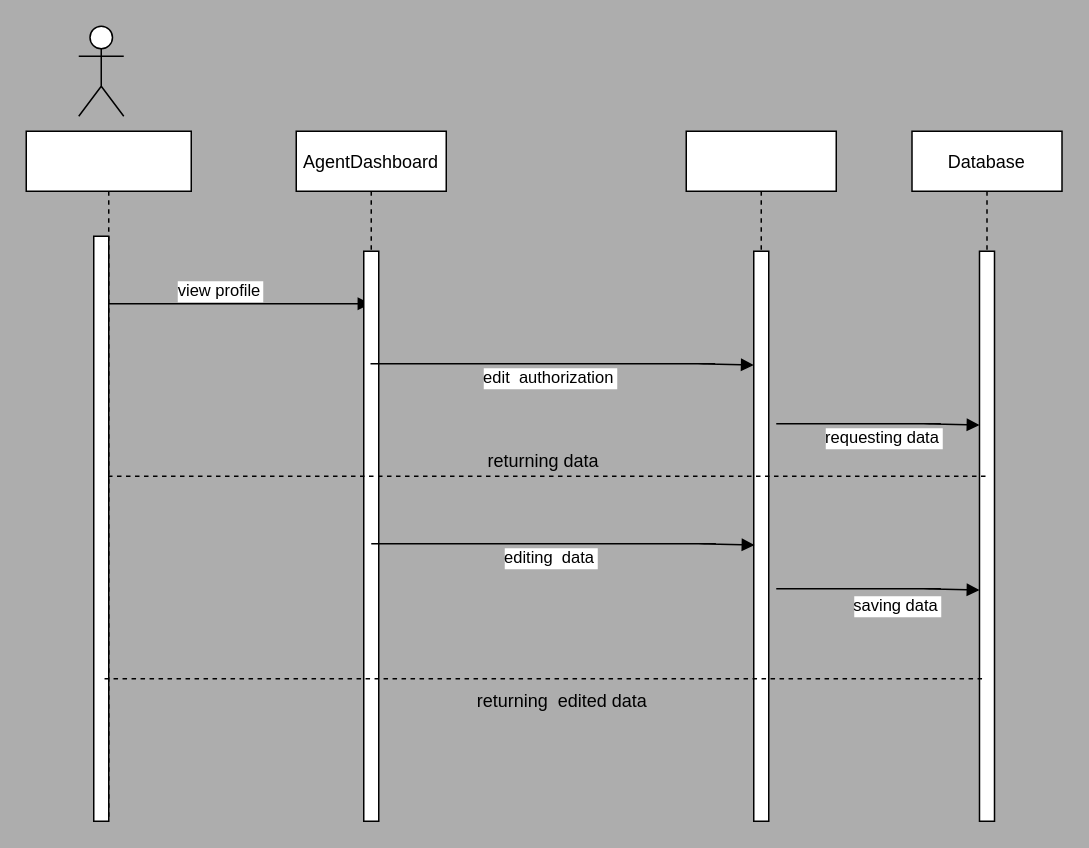
This 1089x848 diagram has some shape labels left out. Each missing label, with the centre of its shape:
Agent: point 108,475
Server: point 760,475
